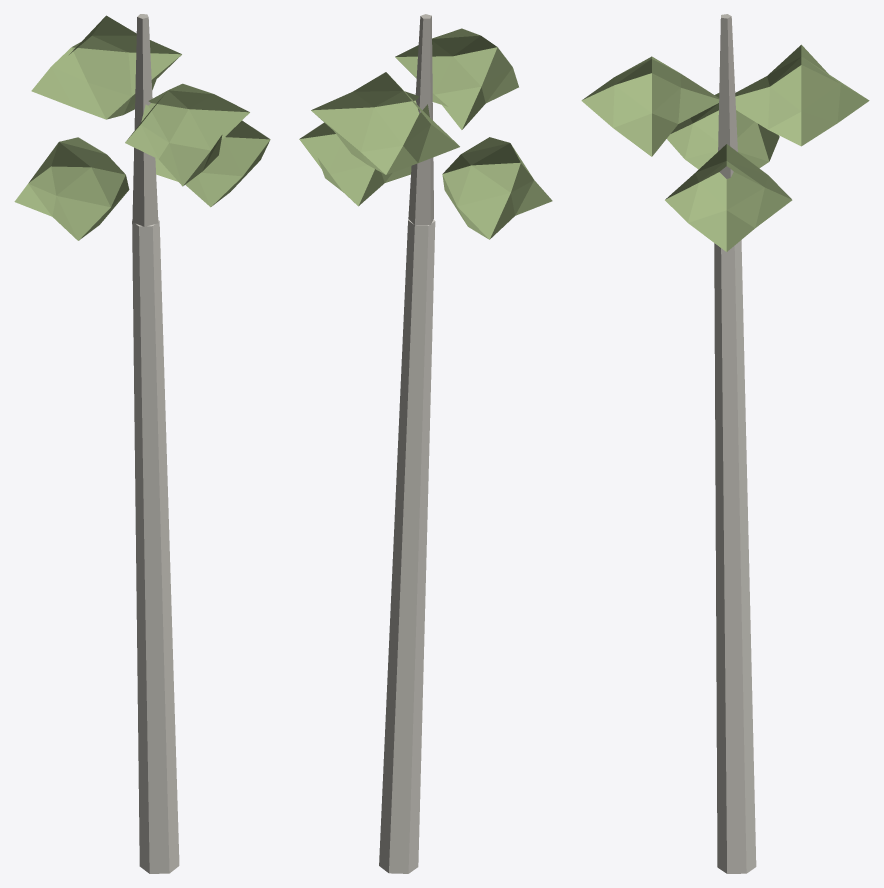
The model's file is birch_v21.glb.
3 renders of one model, left to right at view 1: azimuth 30°, elevation 25°; view 2: azimuth 150°, elevation 25°; view 3: azimuth 270°, elevation 25°, orthographic. The views are drawn at different scales.
Visible parts, largest first — view 1: lod0; view 2: lod0; view 3: lod0.
Boxes of the visible parts, left/top/right/bottom form: lod0: left=14, top=14, right=270, bottom=873; lod0: left=299, top=14, right=552, bottom=873; lod0: left=581, top=14, right=869, bottom=873.
Size of what is drawn, in the model's own units: 1.93 by 6.21 by 1.93.
